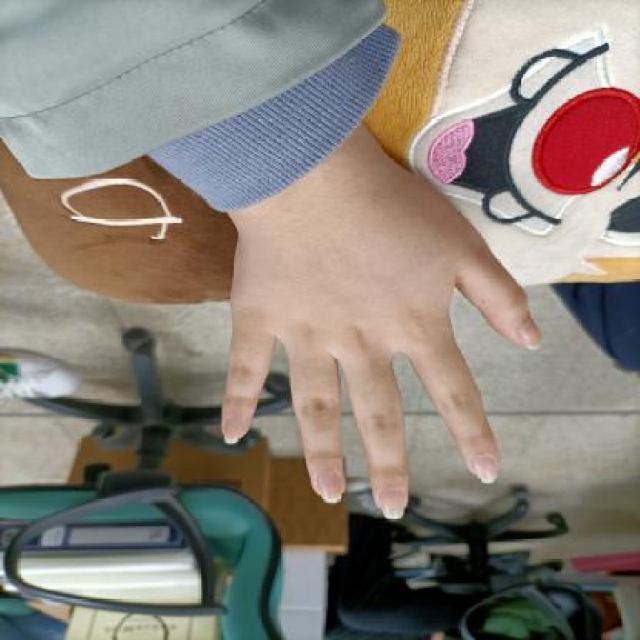bare_hand: (192, 134, 558, 531)
